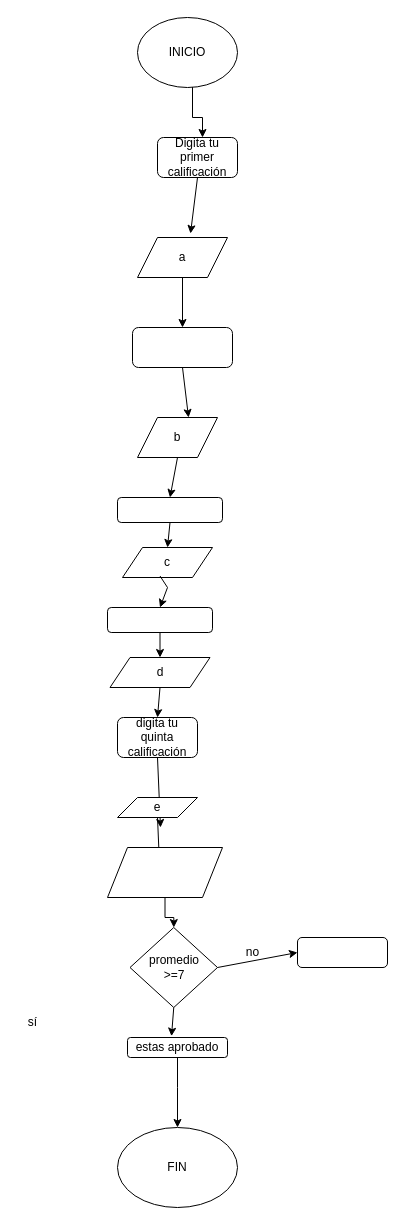
This 405x1225 diagram has some shape labels left out. The centre of each missing label's shape, as x and y in pixels:
"Digita tu cuarta calificación" goes at (159,619).
"Digita tu segunda calificación" goes at (182,347).
"Digita tu tercer calificación" goes at (169,509).
"estas reprobado" goes at (342,952).
"promedio=(a+b+c+d+e)/5" goes at (164,872).
